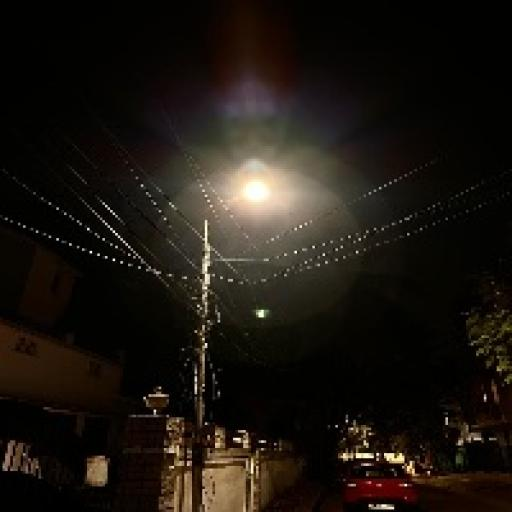Working: (218, 162, 289, 220)
